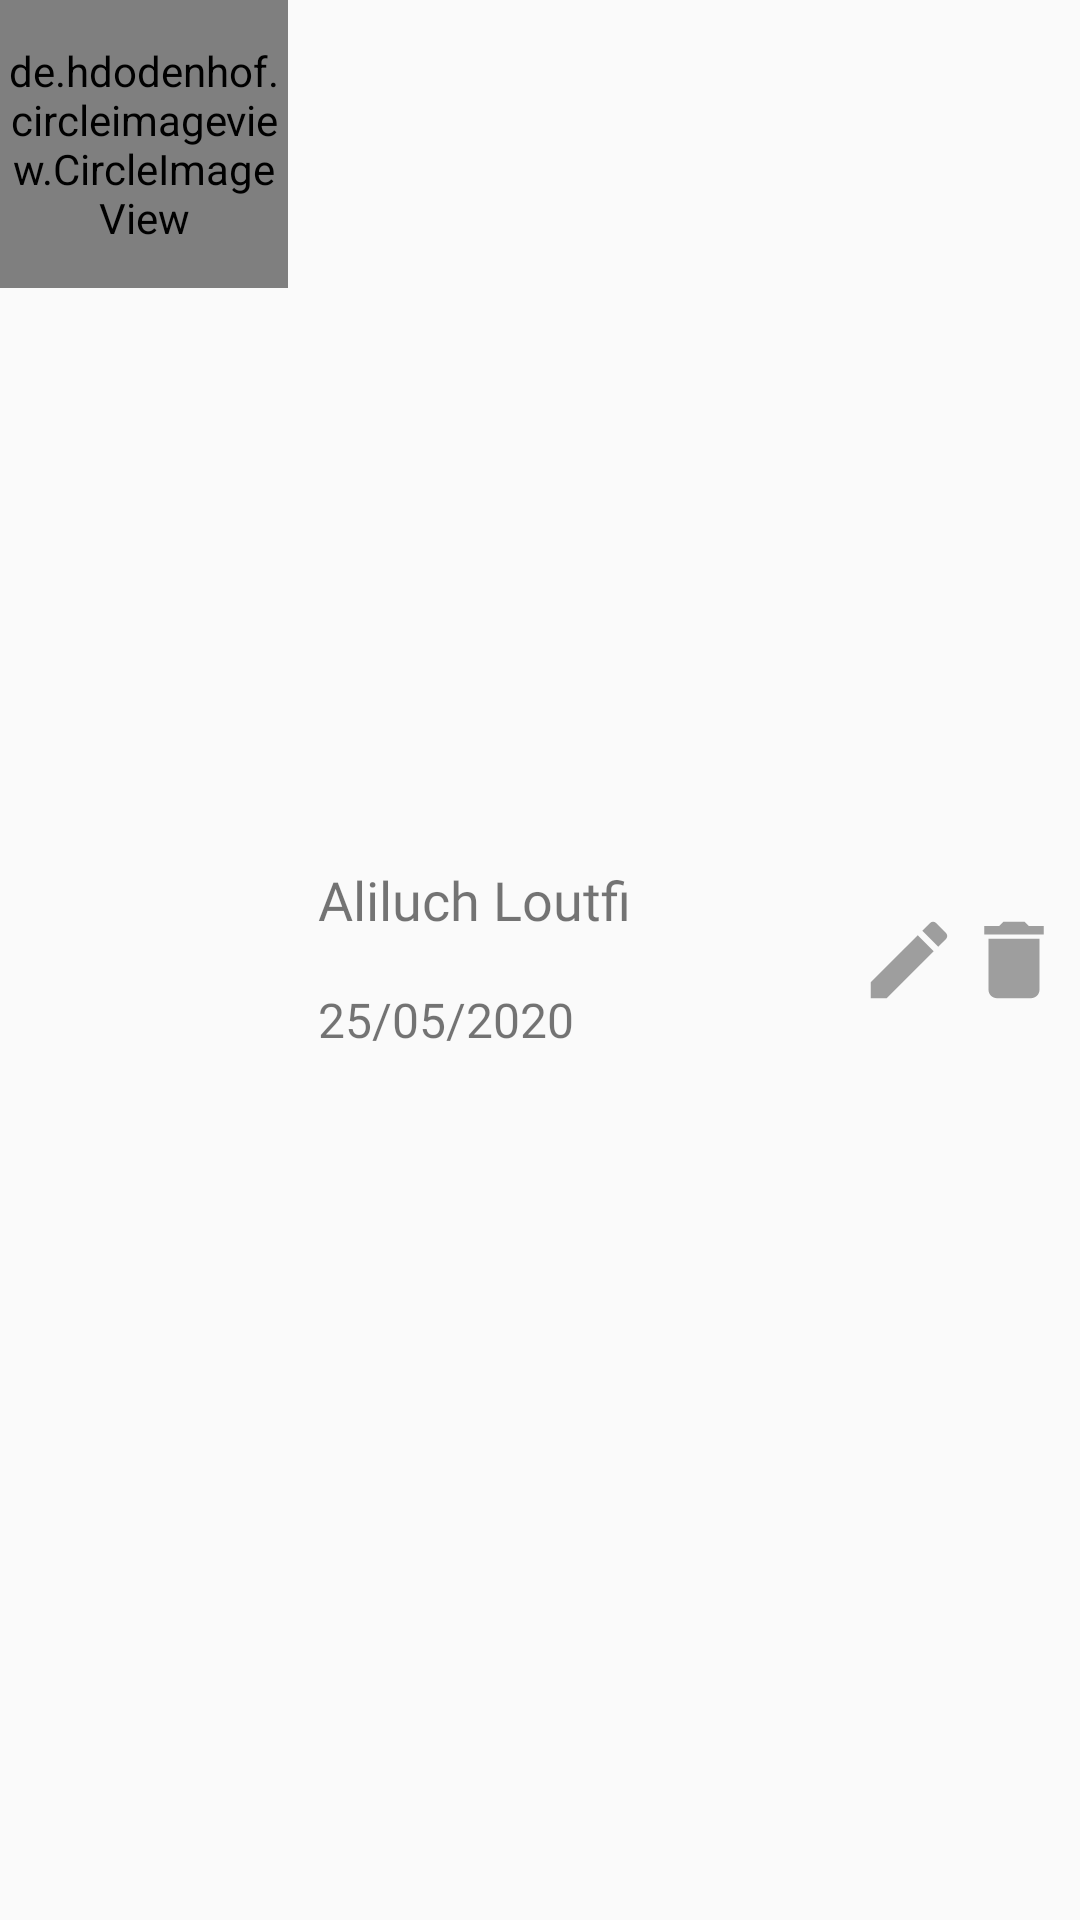

Icon bounding boxes for this 1080*1920 phone screenshot, format region(x1, y1, x2, y2):
delete: region(984, 922, 1044, 998)
edit: region(871, 922, 947, 998)
